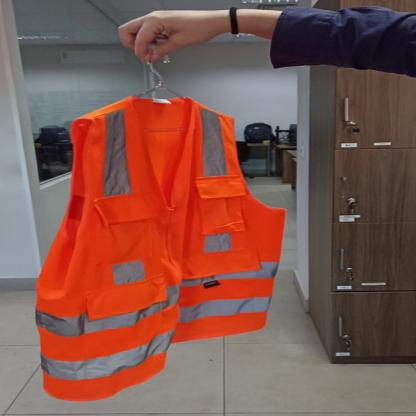colete: (32, 95, 277, 404)
